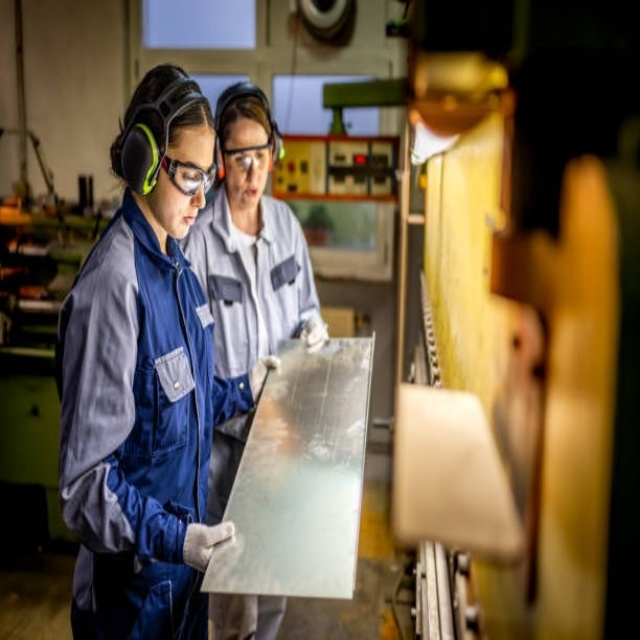Gafas: (160, 153, 218, 197), (222, 141, 273, 174)
Guantes: (182, 520, 238, 574), (248, 354, 280, 404), (300, 315, 329, 350)
Sin_mascara: (174, 209, 201, 238), (238, 182, 261, 204)
